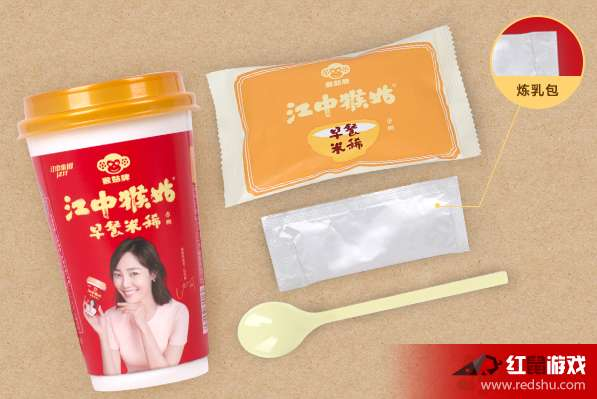cup: (21, 72, 211, 389)
